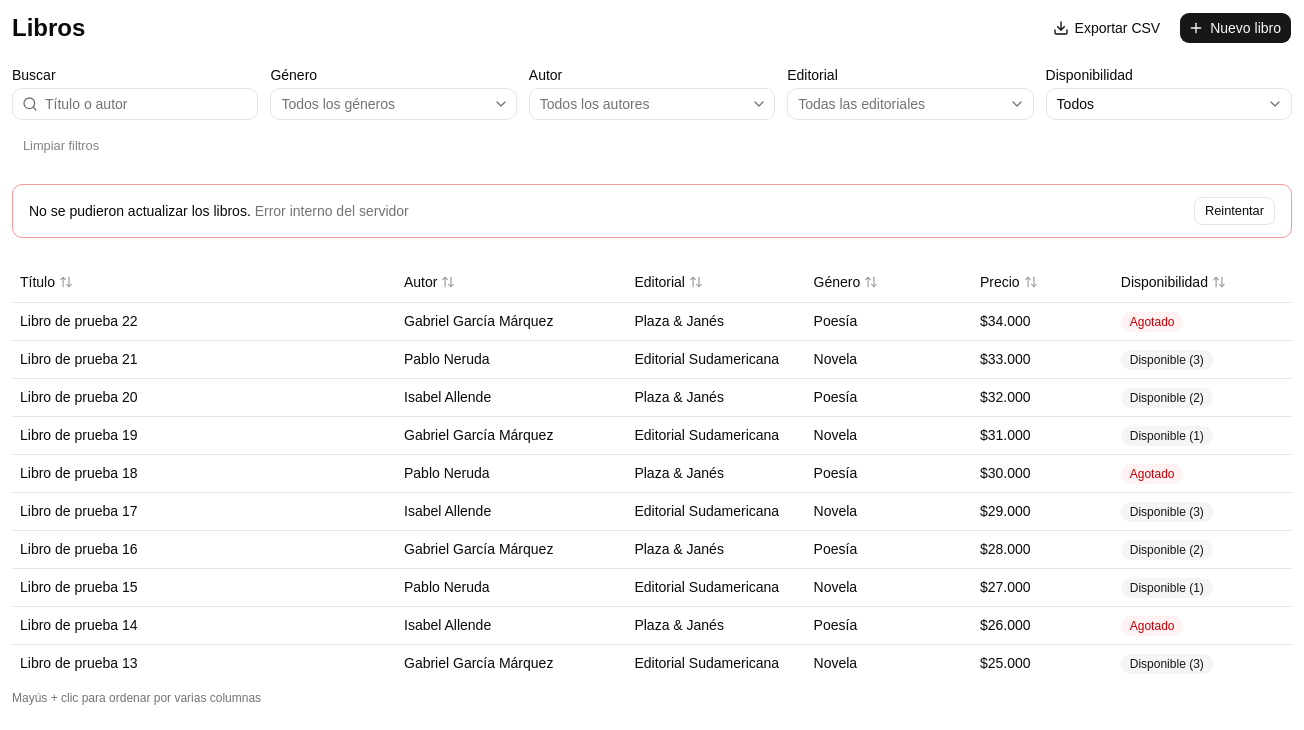
Scenario: BooksListPage › si falla una actualización con datos en pantalla mantiene la tabla y ofrece reintentar
Check: the message shows "No se pudieron actualizar los libros", box [29,203,251,219]
Check: the message shows "Error interno del servidor", box [255,203,409,219]
Click the button "Reintentar".
click(1234, 211)  # box [1194,197,1275,225]
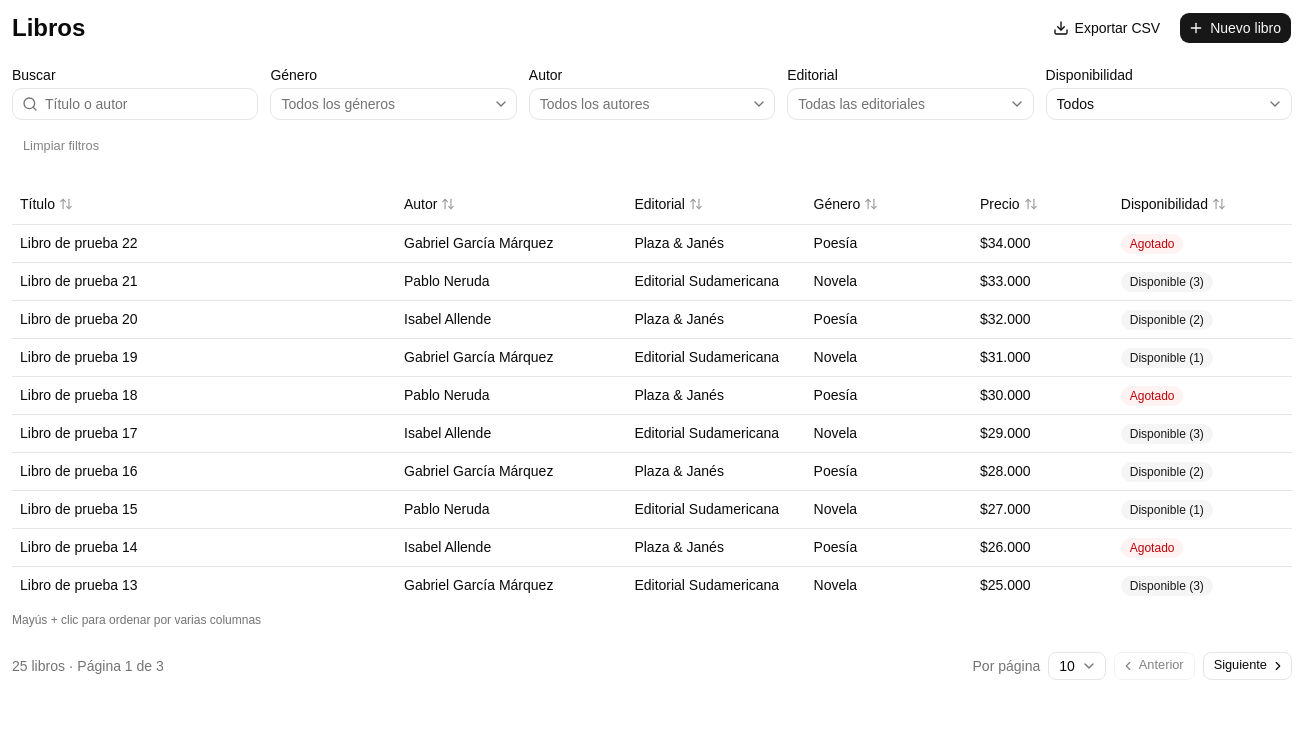
Check: the message "No se pudieron actualizar los libros. Error interno del servidor Reintentar" is gone
